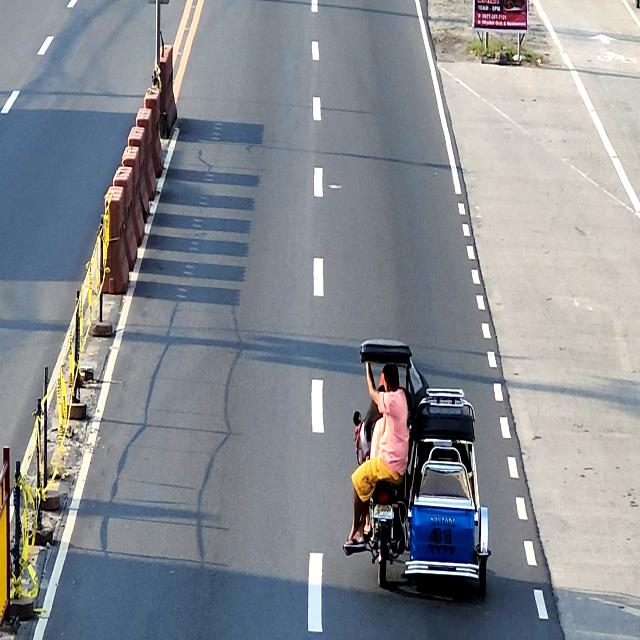License-Plate: (373, 502, 394, 520)
Tricycle: (352, 338, 492, 594)
